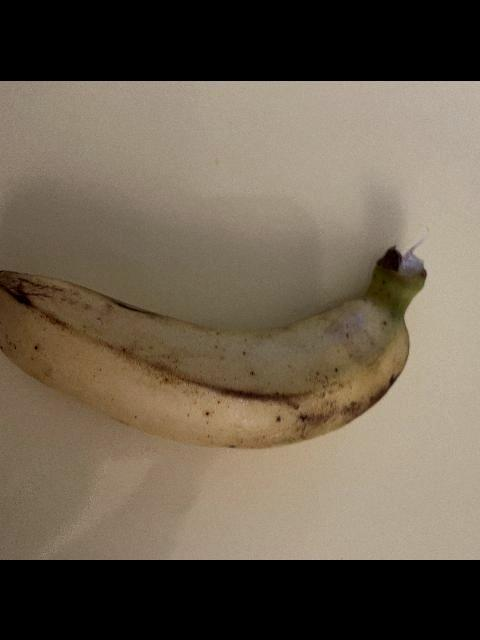banana: (0, 243, 427, 451)
